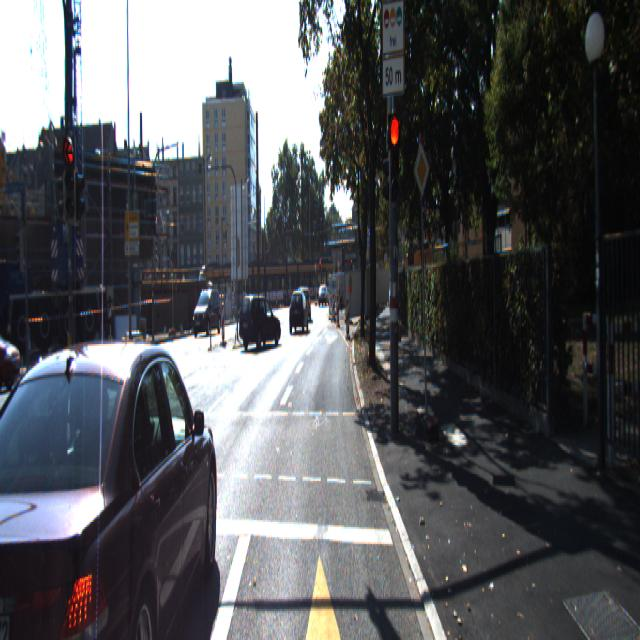Car: (0, 322, 221, 638), (236, 292, 281, 348), (0, 314, 23, 395), (191, 283, 221, 333), (288, 286, 308, 330), (299, 285, 311, 321)
DontCare: (317, 272, 331, 309)
